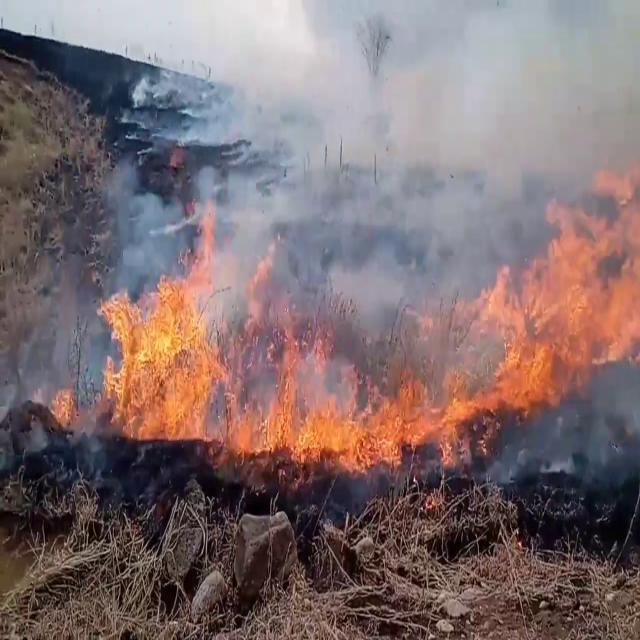Fire: (476, 147, 640, 416), (224, 326, 484, 473), (90, 235, 228, 440)
Smoke: (168, 0, 640, 339), (1, 239, 108, 441)
